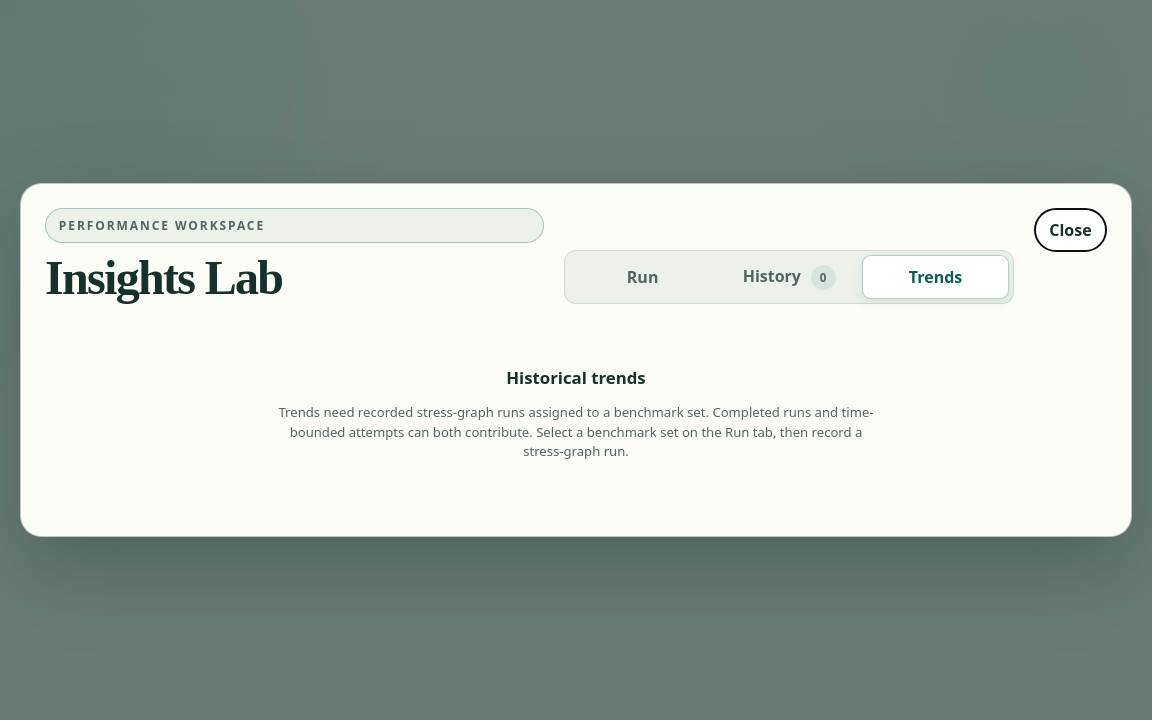
Scenario: InsightsLabDialog › does not enable new runs when disabled mode suppresses automatic benchmark selection
This screenshot has width=1152, height=720.
Click the tab "Run": (643, 277) 569,255 -> 716,299
(page scrolled)
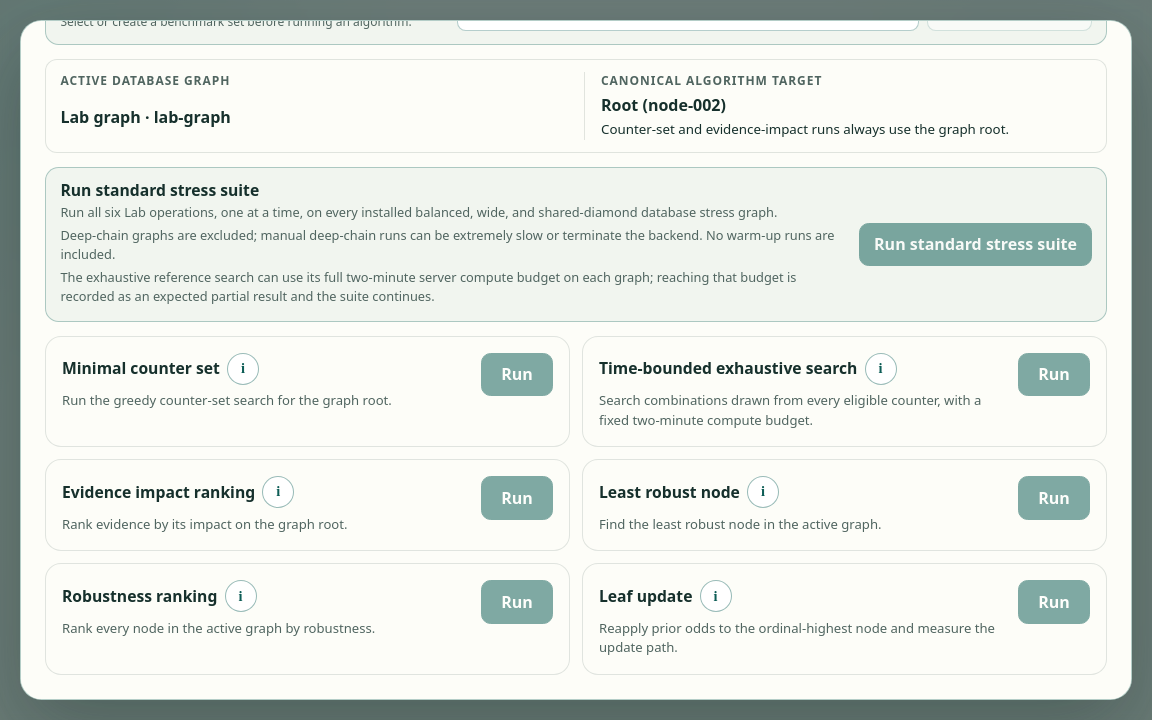
Now the button "Run standard stress suite" is disabled, box 860,222 -> 1092,266
Now the button "Run " in the row of "Minimal counter set" is disabled, box 481,352 -> 553,396
Now the button "Run " in the row of "Time-bounded exhaustive search" is disabled, box 1018,352 -> 1090,396
